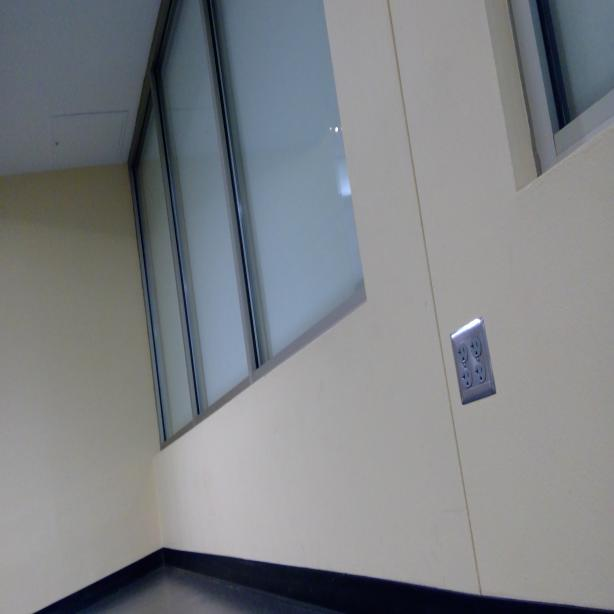typeb: (470, 335, 483, 359), (474, 364, 487, 383), (461, 369, 473, 388), (458, 344, 468, 362)
